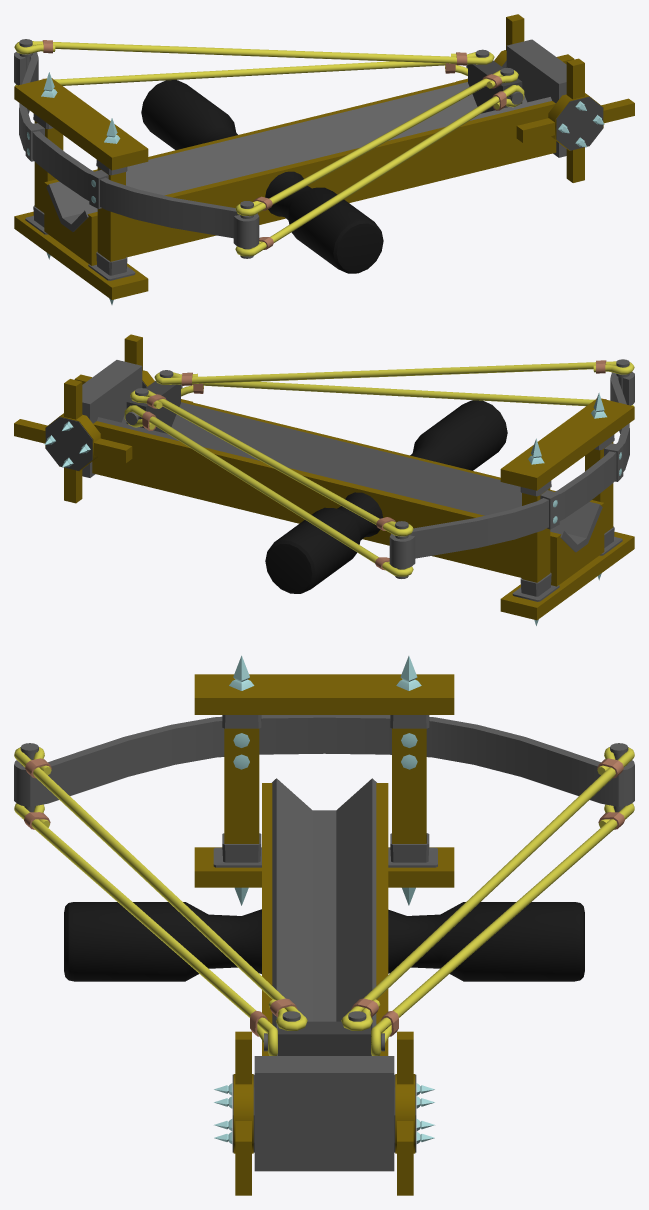
The model's file is Ballista.FBX.
The picture shows the model from 3 angles, top to bottom: view 1: azimuth 30°, elevation 25°; view 2: azimuth 150°, elevation 25°; view 3: azimuth 270°, elevation 25°; orthographic projection. The views are drawn at different scales.
Parts seen in each view (by area): view 1: Castle_Tower_Ballista; view 2: Castle_Tower_Ballista; view 3: Castle_Tower_Ballista.
Part boxes in pixels (left/top/right/bottom): Castle_Tower_Ballista: left=14, top=14, right=634, bottom=304; Castle_Tower_Ballista: left=14, top=334, right=634, bottom=625; Castle_Tower_Ballista: left=14, top=655, right=634, bottom=1195.
Bounding box in the file's own units: 32.96 × 10.94 × 24.53.
